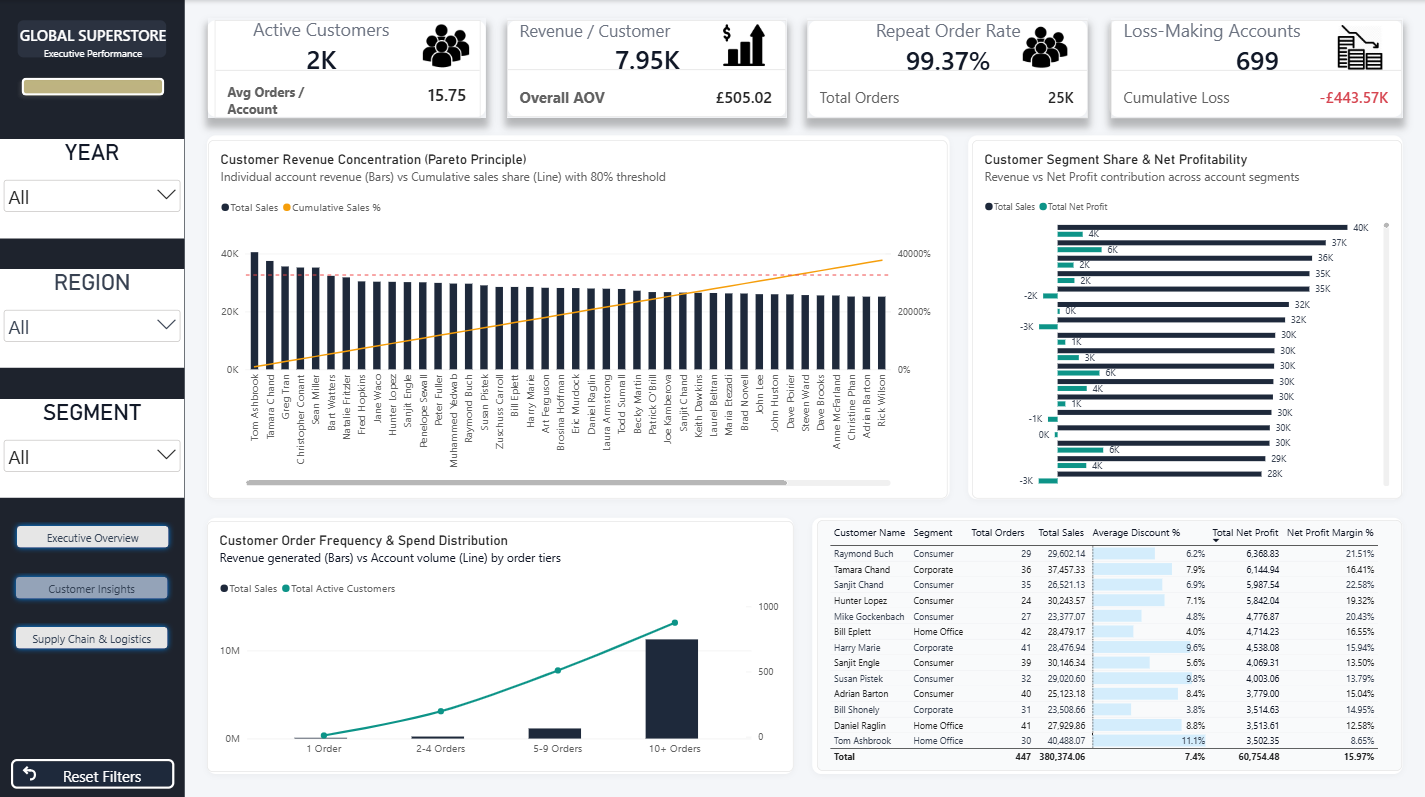

Layout of this report page (visuals, bound fields, positions):
{"tool":"powerbi","page":{"name":"Customer Insights","canvas":[1920,1080],"ordinal":1},"visuals":[{"type":"shape","title":"GLOBAL SUPERSTORE","box":[20.2,33.7,210,104],"z":0},{"type":"cardVisual","fields":{"Data":["Key Measures.Total Active Customers"]},"box":[280.3,24.4,374.9,135.3],"z":1000},{"type":"cardVisual","fields":{"Data":["Key Measures.Average Revenue Per Customer"]},"box":[682.9,24.4,376.5,133.7],"z":2000},{"type":"cardVisual","fields":{"Data":["Key Measures.Repeat Customer Rate %"]},"box":[1087.1,24.4,378.1,135.3],"z":3000},{"type":"cardVisual","fields":{"Data":["Key Measures.Unprofitable Customer Count"]},"box":[1496.2,24.4,392.8,135.3],"z":4000},{"type":"image","box":[1349.5,34.2,115,60],"z":5000},{"type":"image","box":[943.7,31,115,60],"z":6000},{"type":"image","box":[1773.6,34.2,115,60],"z":7000},{"type":"lineClusteredColumnComboChart","title":"Customer Revenue Concentration (Pareto Principle)","fields":{"Category":["Dim Customers.Customer Name"],"Y":["Key Measures.Total Sales"],"Y2":["Key Measures.Cumulative Sales %"]},"box":[279.4,188.2,996.1,482.9],"z":8000},{"type":"clusteredBarChart","title":"Customer Segment Share & Net Profitability","fields":{"Category":["Dim Customers.Customer Name"],"Y":["Key Measures.Total Sales","Key Measures.Total Net Profit"]},"box":[1308.9,188.5,579.1,483.4],"z":9000},{"type":"lineClusteredColumnComboChart","title":"Customer Order Frequency & Spend Distribution","fields":{"Category":["Dim Customers.Order Frequency Band"],"Y":["Key Measures.Total Sales"],"Y2":["Key Measures.Total Active Customers"]},"box":[278.8,701.6,790.5,338],"z":10000},{"type":"tableEx","title":"Top Margin-Bleeding Accounts","fields":{"Values":["Dim Customers.Customer Name","Dim Customers.Segment","Key Measures.Total Orders","Key Measures.Total Sales","Key Measures.Average Discount %","Key Measures.Total Net Profit","Key Measures.Net Profit Margin %"]},"box":[1100.2,700.2,787.8,338],"z":11000},{"type":"slicer","title":"YEAR","fields":{"Values":["Date Master.Year"]},"box":[0,187.4,247.7,133.7],"z":12000},{"type":"slicer","title":"REGION","fields":{"Values":["Dim Regions.Region"]},"box":[0,362.7,247.8,133],"z":13000},{"type":"slicer","title":"SEGMENT","fields":{"Values":["Dim Customers.Segment"]},"box":[0,537.3,247.7,133],"z":14000},{"type":"actionButton","box":[14.8,1022.1,219.5,40.4],"z":15000},{"type":"actionButton","box":[13.5,768.3,220,45],"z":16000},{"type":"actionButton","box":[14.8,700.2,220,45],"z":17000},{"type":"actionButton","box":[13.5,836.3,220,45],"z":18000}]}

Visuals, with their boxes in screenshot pixels (x1, y1, x2, y2), scaled from the page's 1920x1080 canvas onto the 1425x797 screenshot:
"GLOBAL SUPERSTORE" shape: <region>15, 25, 171, 102</region>
cardVisual - Key Measures.Total Active Customers: <region>208, 18, 486, 118</region>
cardVisual - Key Measures.Average Revenue Per Customer: <region>507, 18, 786, 117</region>
cardVisual - Key Measures.Repeat Customer Rate %: <region>807, 18, 1087, 118</region>
cardVisual - Key Measures.Unprofitable Customer Count: <region>1110, 18, 1402, 118</region>
image: <region>1002, 25, 1087, 70</region>
image: <region>700, 23, 786, 67</region>
image: <region>1316, 25, 1402, 70</region>
"Customer Revenue Concentration (Pareto Principle)" lineClusteredColumnComboChart: <region>207, 139, 947, 495</region>
"Customer Segment Share & Net Profitability" clusteredBarChart: <region>971, 139, 1401, 496</region>
"Customer Order Frequency & Spend Distribution" lineClusteredColumnComboChart: <region>207, 518, 794, 767</region>
"Top Margin-Bleeding Accounts" tableEx: <region>817, 517, 1401, 766</region>
"YEAR" slicer: <region>0, 138, 184, 237</region>
"REGION" slicer: <region>0, 268, 184, 366</region>
"SEGMENT" slicer: <region>0, 397, 184, 495</region>
actionButton: <region>11, 754, 174, 784</region>
actionButton: <region>10, 567, 173, 600</region>
actionButton: <region>11, 517, 174, 550</region>
actionButton: <region>10, 617, 173, 650</region>
